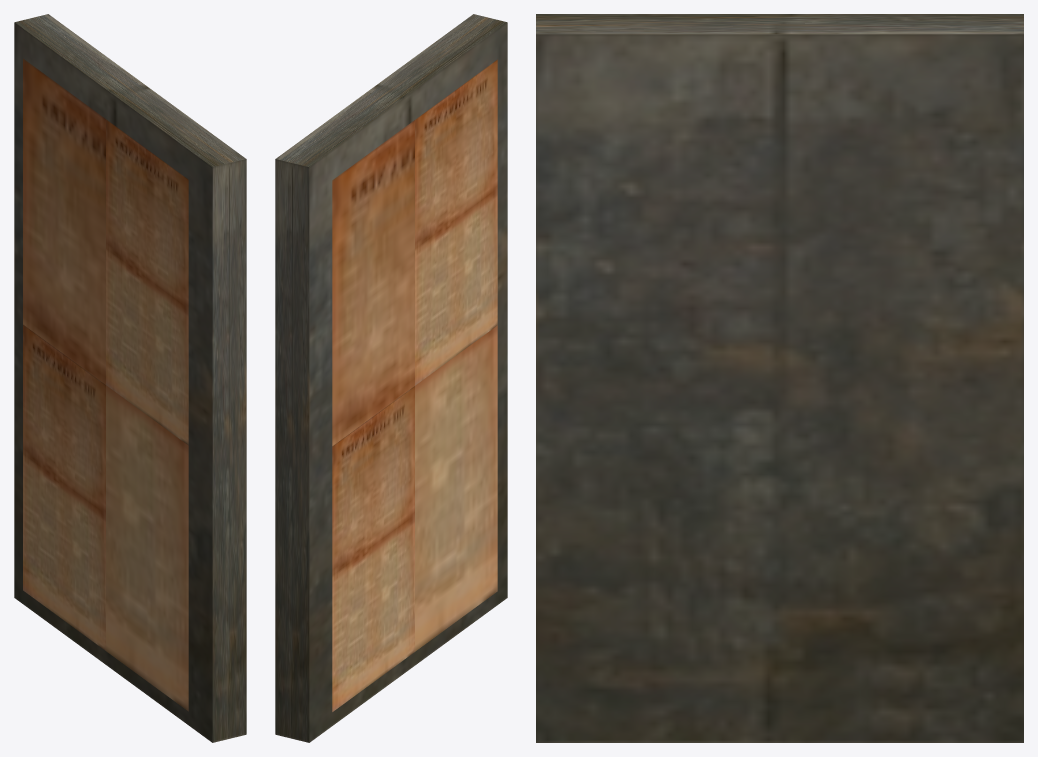
File: guide.glb
3 renders of one model, left to right at view 1: azimuth 30°, elevation 25°; view 2: azimuth 150°, elevation 25°; view 3: azimuth 270°, elevation 25°, orthographic. The views are drawn at different scales.
Parts seen in each view (by area): view 1: guide.ms3d.mo; view 2: guide.ms3d.mo; view 3: guide.ms3d.mo.
Boxes of the visible parts, box(x1,y1,x2,y2) form: guide.ms3d.mo: box(14, 14, 246, 742); guide.ms3d.mo: box(275, 14, 507, 742); guide.ms3d.mo: box(536, 14, 1023, 742).
Size of the model in its own units: 1.61 by 21.64 by 13.5.
Materials: 2 (2 with a texture image).
